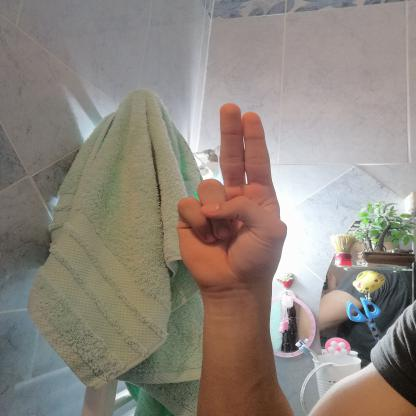TA: (161, 94, 302, 302)
